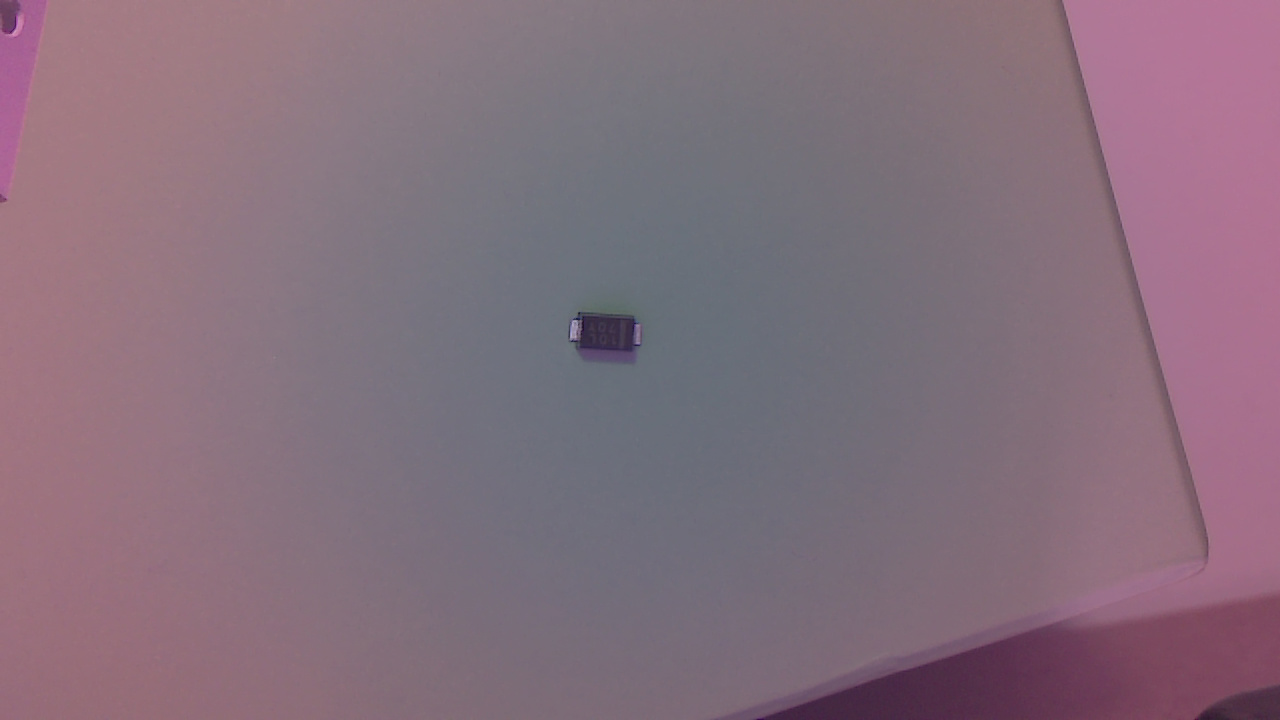Diode: (570, 312, 650, 363)
